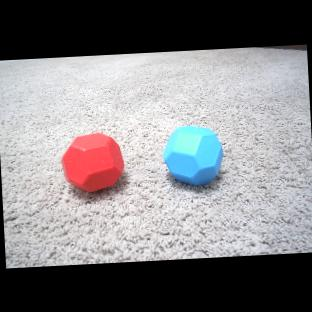V5_BLUE: (162, 121, 225, 185)
V5_RED: (59, 130, 126, 193)
